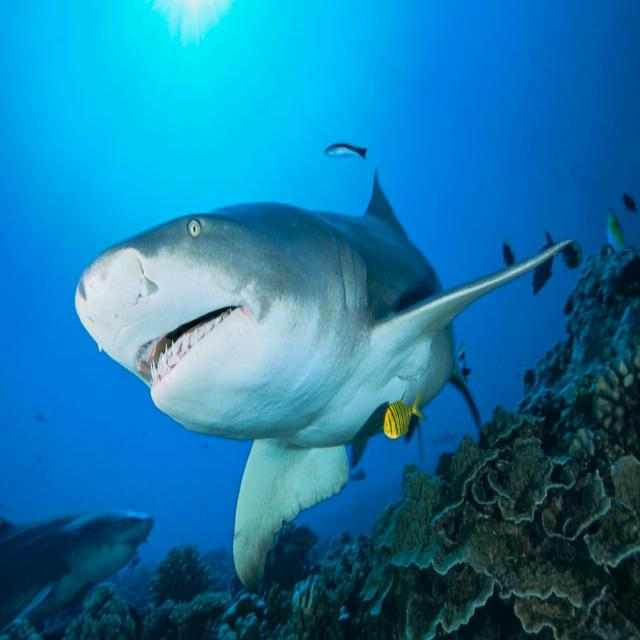shark: (75, 174, 575, 589)
